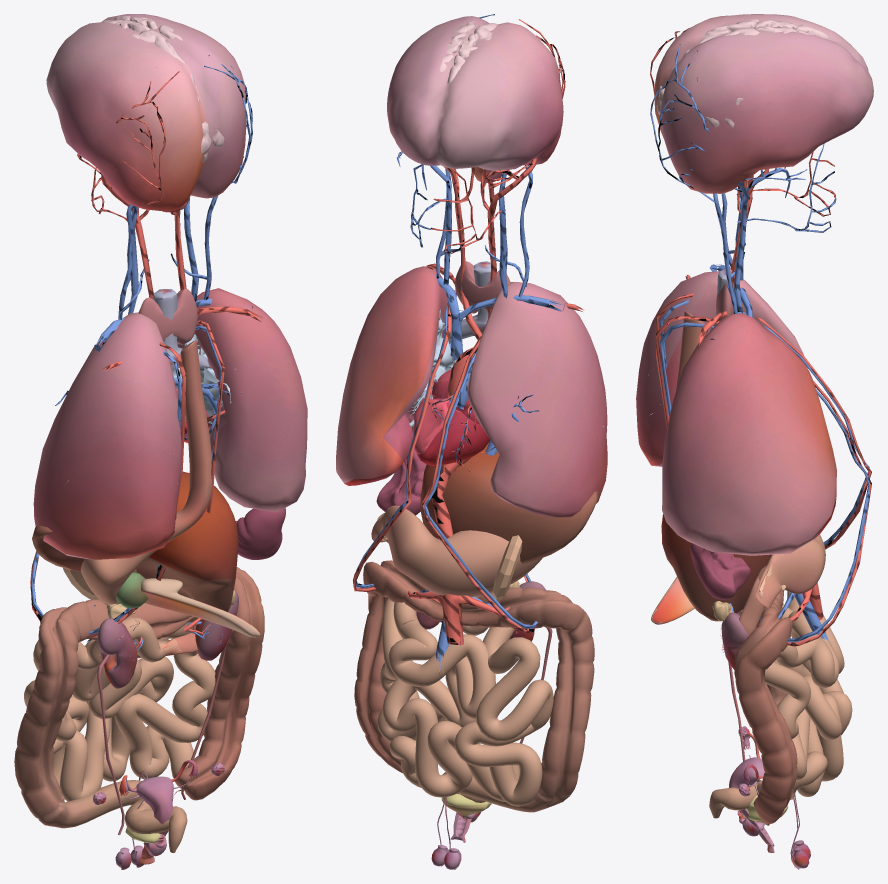
File: body.glb
3 views of the same model, side by side, from view 1: azimuth 30°, elevation 25°; view 2: azimuth 150°, elevation 25°; view 3: azimuth 270°, elevation 25° (orthographic). The views are drawn at different scales.
Parts seen in each view (by area): view 1: brain, lungR, lintestine, sintestine, lungL, liver, stomach, vein, artery, kidneyR, pancreas, uterus (+6 smaller); view 2: sintestine, lungR, brain, lintestine, lungL, artery, stomach, vein, liver, heart, airway, spleen (+4 smaller); view 3: lungL, brain, sintestine, lintestine, vein, lungR, artery, stomach, liver, spleen, uterus, pancreas (+2 smaller).
Part boxes in pixels (left/top/right/bottom): brain: left=46, top=14, right=246, bottom=212; lungR: left=33, top=312, right=181, bottom=559; lintestine: left=14, top=567, right=264, bottom=852; sintestine: left=24, top=617, right=233, bottom=801; lungL: left=177, top=288, right=307, bottom=512; liver: left=32, top=471, right=238, bottom=611; stomach: left=63, top=340, right=212, bottom=605; vein: left=31, top=55, right=252, bottom=660; artery: left=30, top=67, right=262, bottom=660; kidneyR: left=97, top=618, right=137, bottom=834; pancreas: left=141, top=578, right=260, bottom=637; uterus: left=93, top=760, right=224, bottom=864; sintestine: left=377, top=599, right=553, bottom=806; lungR: left=467, top=281, right=607, bottom=517; brain: left=387, top=16, right=563, bottom=182; lintestine: left=354, top=560, right=594, bottom=812; lungL: left=336, top=266, right=451, bottom=485; artery: left=353, top=19, right=584, bottom=645; stomach: left=371, top=505, right=542, bottom=601; vein: left=355, top=14, right=564, bottom=675; liver: left=420, top=443, right=598, bottom=563; heart: left=414, top=369, right=490, bottom=465; airway: left=407, top=261, right=606, bottom=429; spleen: left=376, top=449, right=426, bottom=515; lungL: left=662, top=313, right=836, bottom=555; brain: left=654, top=14, right=873, bottom=193; sintestine: left=738, top=566, right=852, bottom=799; lintestine: left=709, top=590, right=797, bottom=823; vein: left=650, top=44, right=869, bottom=652; lungR: left=636, top=271, right=807, bottom=466; artery: left=650, top=28, right=871, bottom=650; stomach: left=676, top=311, right=825, bottom=607; liver: left=661, top=514, right=771, bottom=621; spleen: left=690, top=543, right=750, bottom=599; uterus: left=729, top=726, right=774, bottom=852; pancreas: left=651, top=577, right=694, bottom=624.
Bounding box in the file's own units: 0.3156 × 1 × 0.2565.
26 materials, 19 textured.
